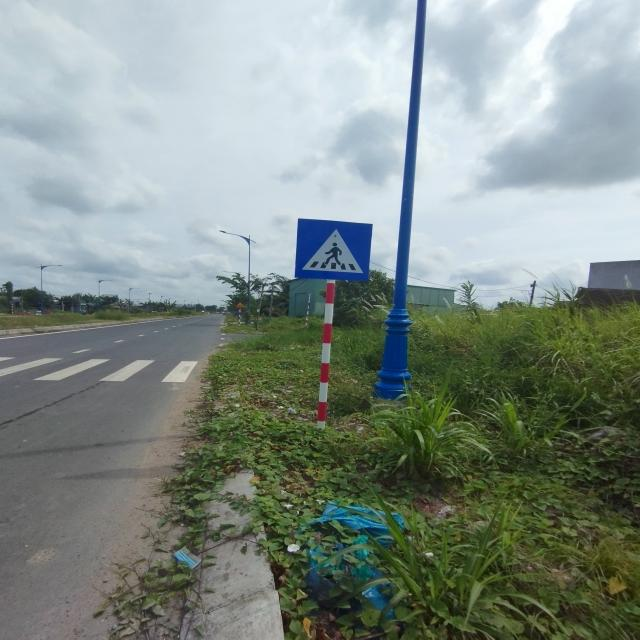Giao_Nhau_Duong_Uu_Tien: (295, 218, 373, 279)
